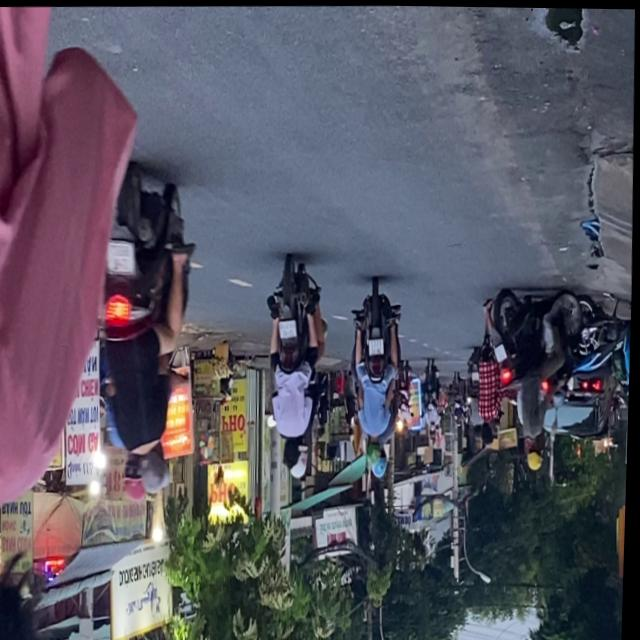helmet: (141, 442, 171, 495), (121, 452, 149, 502), (526, 435, 546, 468), (289, 441, 307, 476), (365, 434, 382, 465), (372, 450, 389, 476)
licenseplate: (90, 159, 201, 508), (479, 277, 600, 472), (260, 254, 331, 475), (347, 277, 407, 477)
motorcyclist: (282, 434, 301, 469)
nohelmet: (106, 241, 135, 273), (279, 318, 297, 338), (369, 337, 384, 353)
